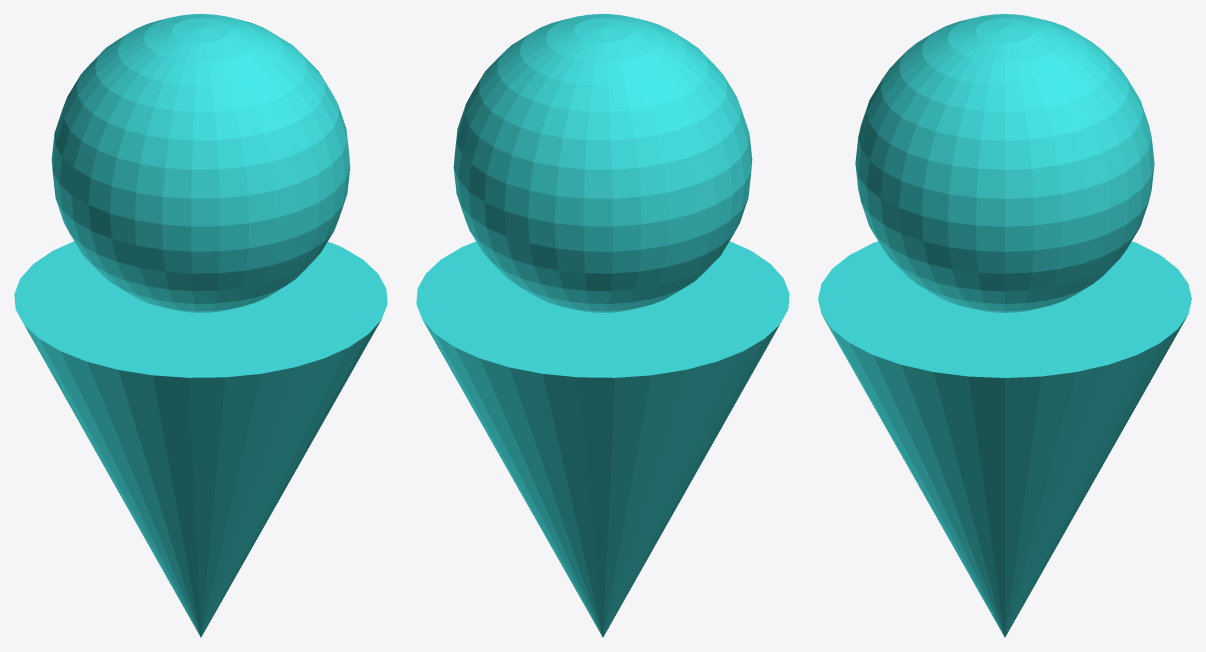
The model's file is playerAlpha3D.fbx.
3 views of the same model, side by side, from view 1: azimuth 30°, elevation 25°; view 2: azimuth 150°, elevation 25°; view 3: azimuth 270°, elevation 25° (orthographic).
Parts seen in each view (by area): view 1: Cone, Sphere; view 2: Cone, Sphere; view 3: Cone, Sphere.
Part boxes in pixels (x1,y1,x2,y2): Cone: [14, 241, 387, 637]; Sphere: [51, 14, 350, 312]; Cone: [416, 241, 789, 637]; Sphere: [453, 14, 752, 312]; Cone: [818, 241, 1191, 637]; Sphere: [855, 14, 1154, 312].
Bounding box in the file's own units: 100 × 180 × 100.
